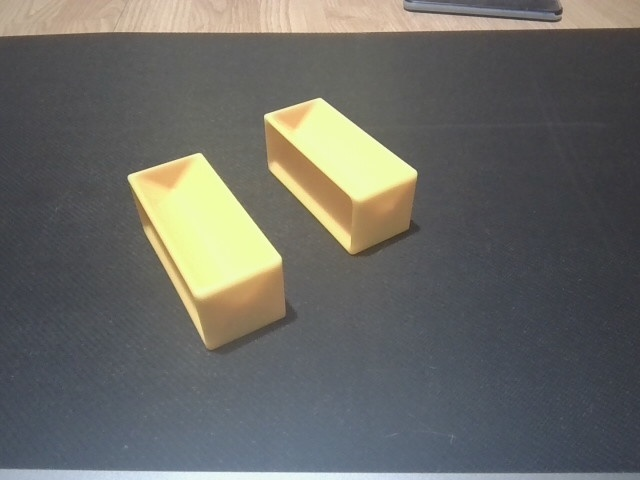YellowSample: (123, 149, 291, 356), (259, 91, 421, 259)
